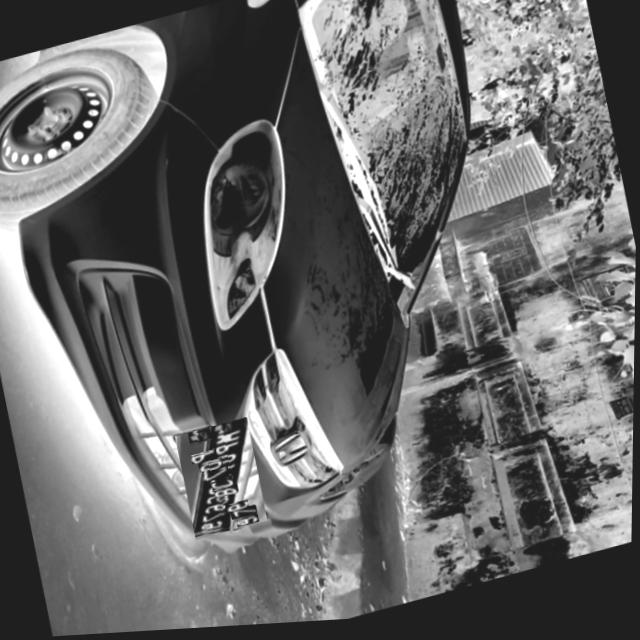0: (199, 462, 224, 476)
6: (225, 503, 250, 516), (221, 495, 245, 508)
7: (203, 471, 230, 485), (230, 509, 257, 523)
9: (237, 517, 260, 530)
B: (214, 487, 239, 501)
C: (212, 480, 234, 493)
IND: (188, 430, 212, 448)
Indian_registered: (194, 420, 248, 536)
M: (186, 441, 213, 459)
P: (190, 453, 217, 468)
